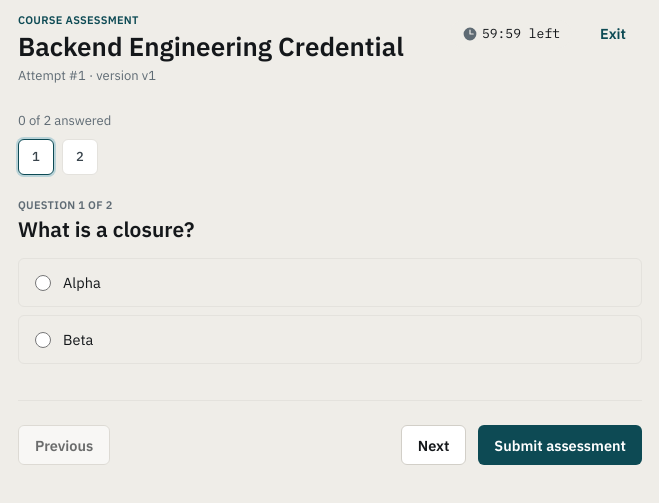
it: AssessmentAttemptShell (runner) › autosave serialization (ordering / races) › never starts a second save while one is in flight; sends the newest after
Step 1. Click the radio button labelled "Alpha" → (43, 283), box [35,275,51,291]
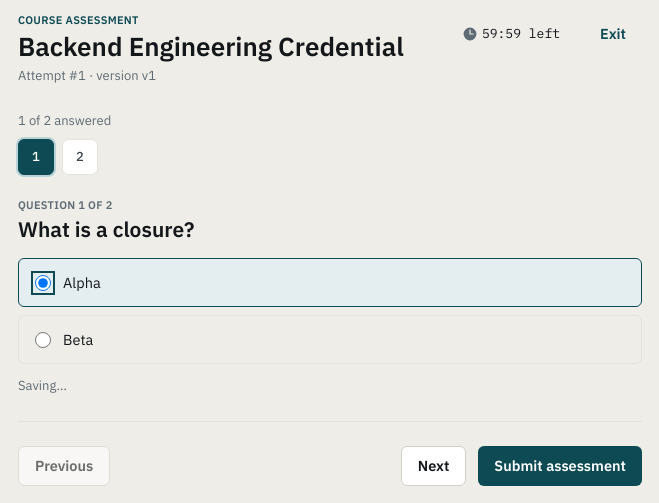
Step 2. Click the radio button labelled "Beta" → (43, 340), box [35,332,51,348]
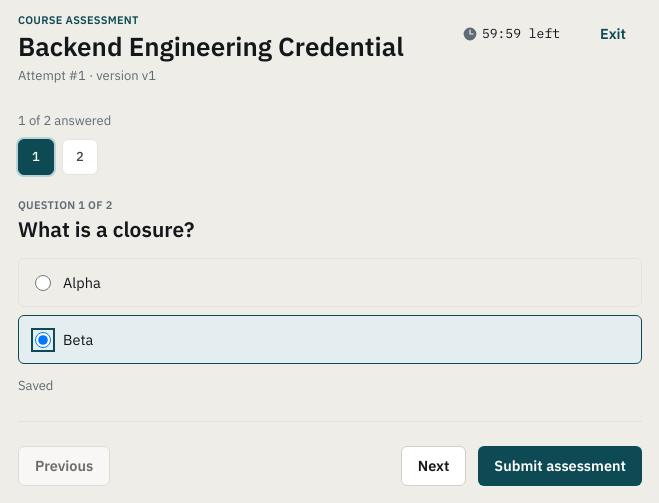
Now the text "Saved" is shown, box [18,376,53,397]
